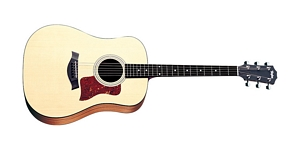guitar: (20, 23, 278, 125)
